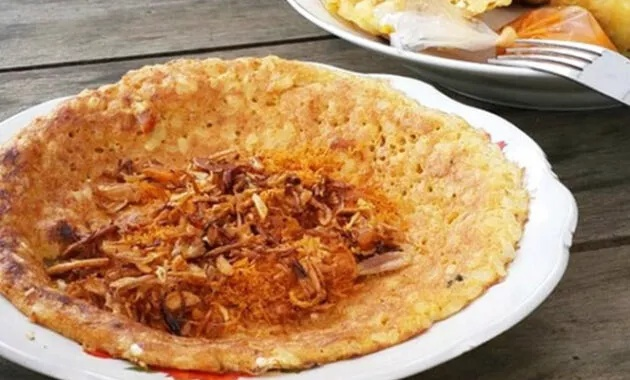kerak_telor: (0, 64, 534, 377)
